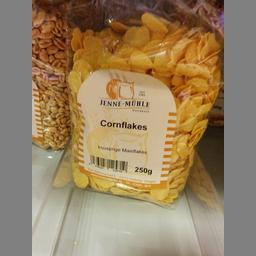cereal: (55, 22, 222, 204)
